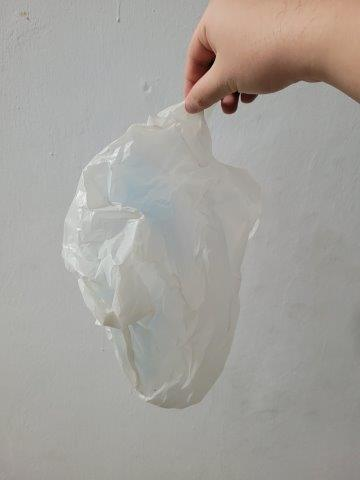plastik: (62, 100, 258, 407)
